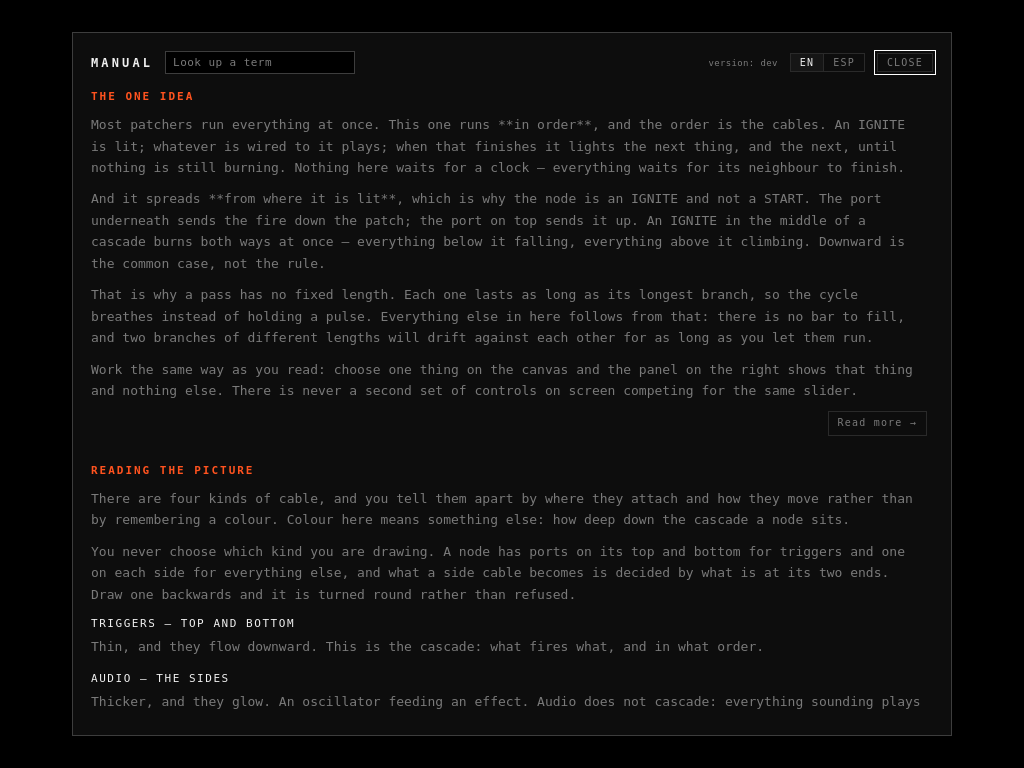
searching the manual › says so plainly when there is nothing at all
Type "zzzzqq" into the search field named "Search the manual" at (260, 62), box [165,51,355,74]
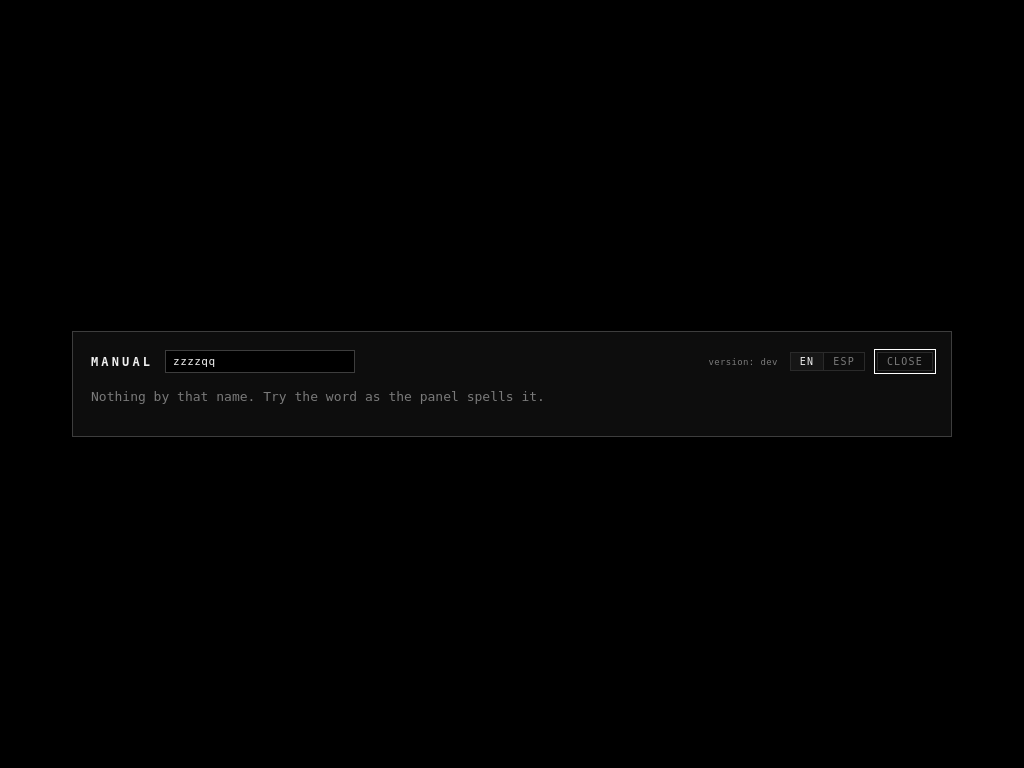
Expected: the text "Nothing by that name. Try the word as the panel spells it." is shown, [91,389,545,404]
